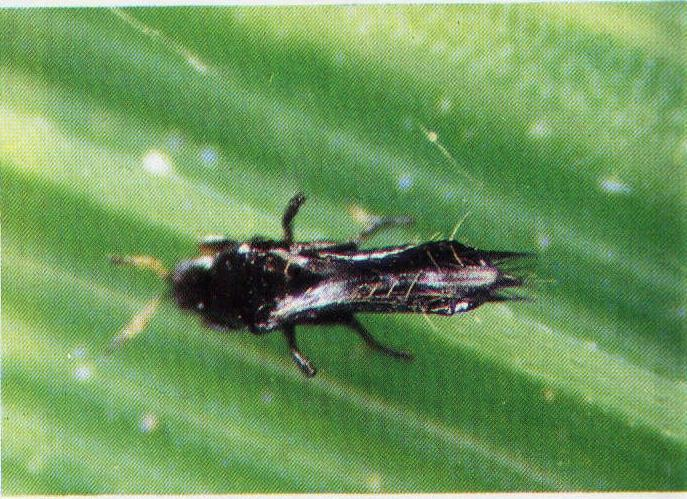Phlaeothripidae: (114, 189, 543, 377)
